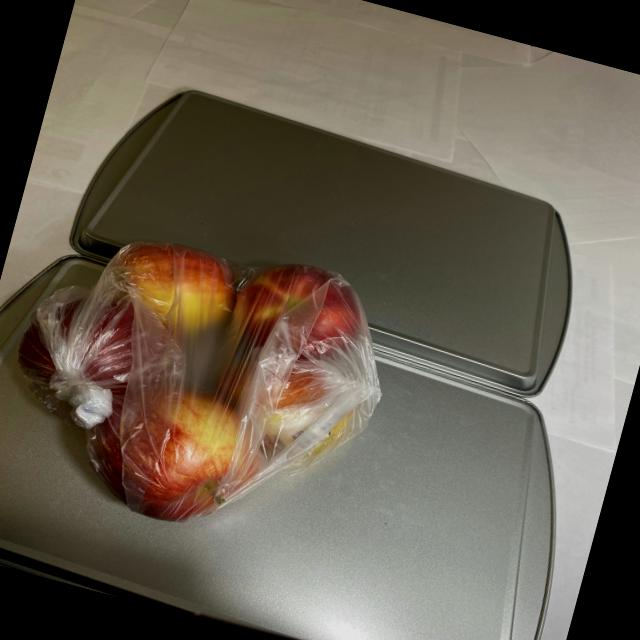apple: (0, 196, 407, 575)
